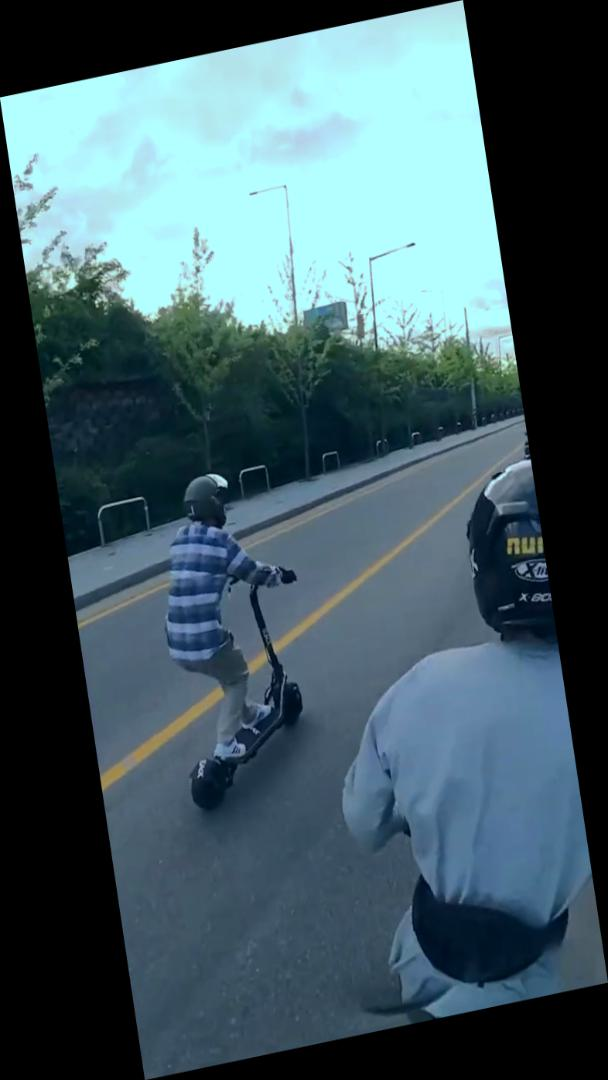helmet: (140, 453, 331, 821)
